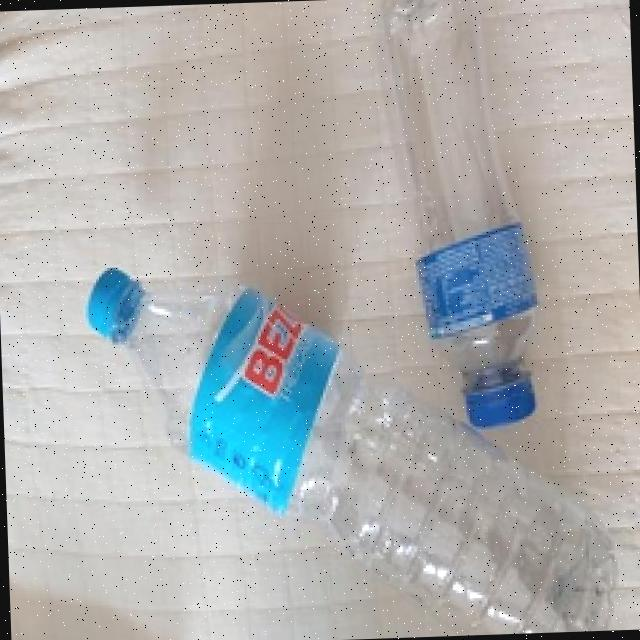bottle: (79, 249, 626, 640), (365, 0, 547, 442)
cap: (458, 370, 546, 430), (78, 268, 139, 346)
label: (203, 273, 324, 507), (405, 233, 543, 327)
